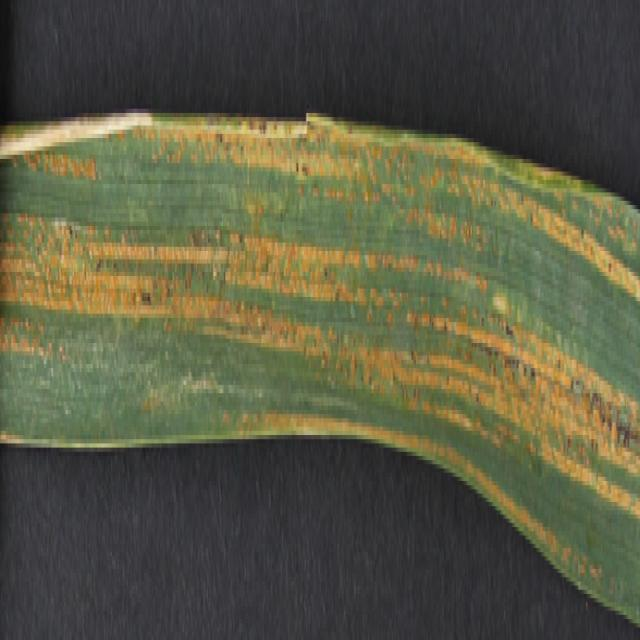leaf rust: (1, 113, 640, 514)
